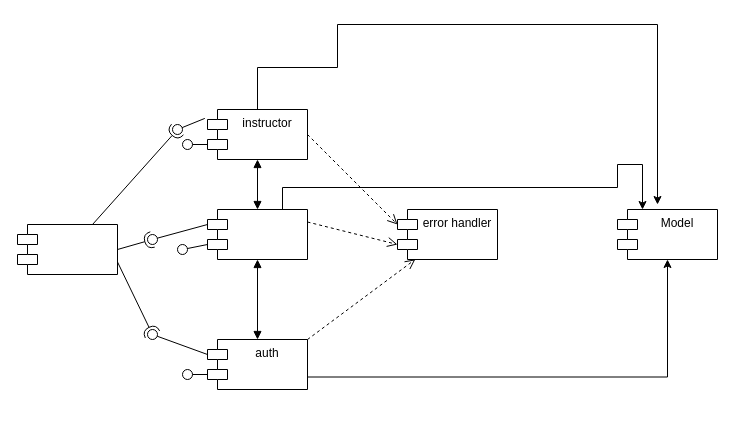
Some shapes in this 735 by 422 pixel diagram are drawn without their labels. The shapes that lost their labels are listed below. From the top down, each one's centre as x and y in pixels, then its label:
the point at 67,249: client
the point at 257,234: student
